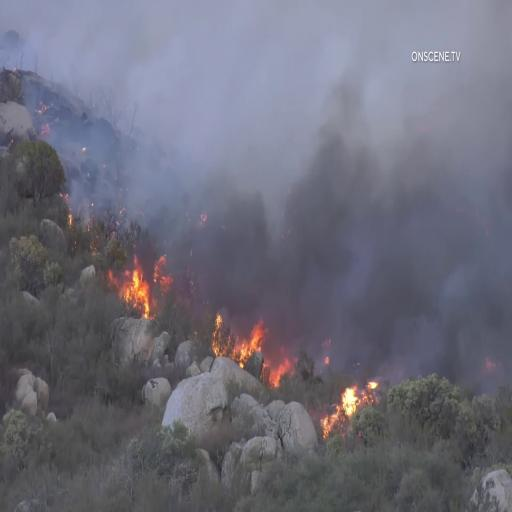fire: (116, 255, 166, 324)
smoke: (227, 114, 512, 318)
